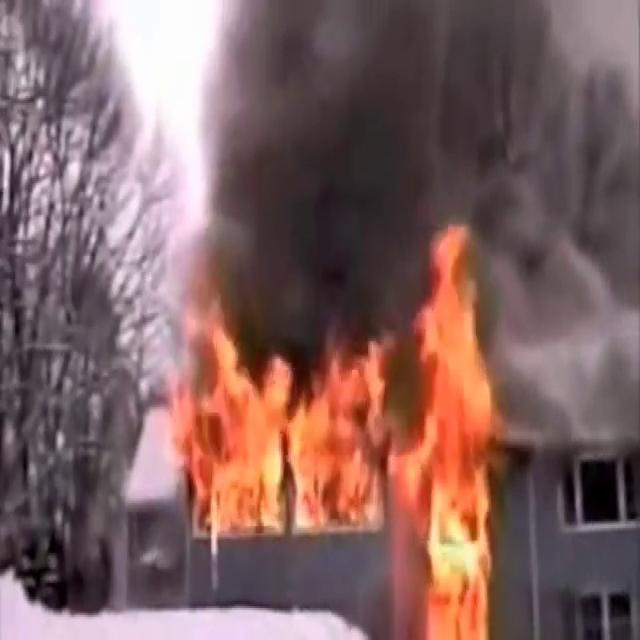Fire: (168, 314, 380, 545), (393, 216, 508, 633)
Smoke: (162, 8, 640, 362)
